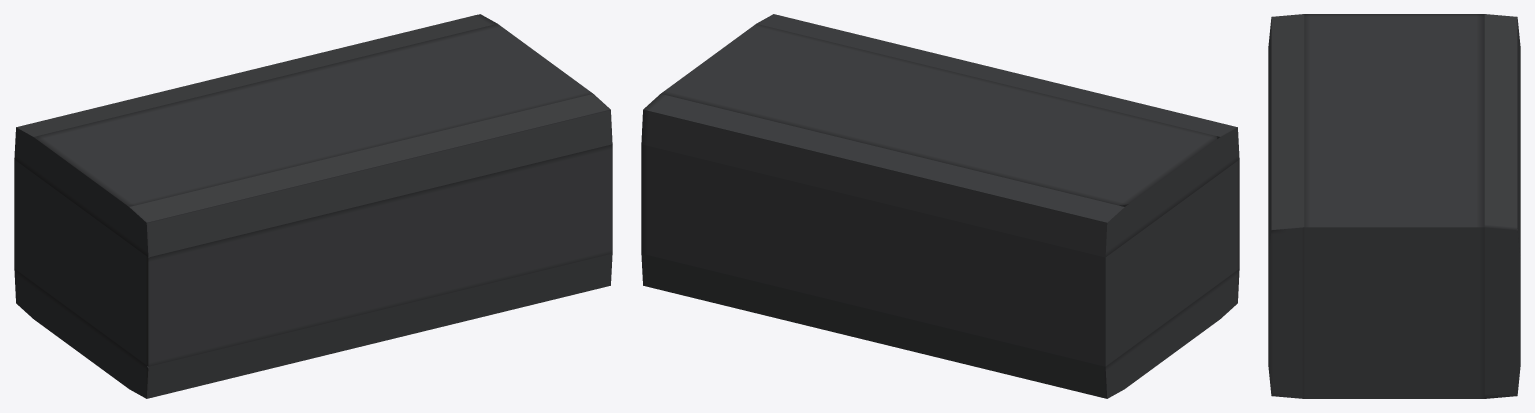
Rendered from bricks.obj.
The picture shows the model from 3 angles, left to right: view 1: azimuth 30°, elevation 25°; view 2: azimuth 150°, elevation 25°; view 3: azimuth 270°, elevation 25°; orthographic projection. The views are drawn at different scales.
Parts seen in each view (by area): view 1: brick; view 2: brick; view 3: brick.
Boxes of the visible parts, box(x1,y1,x2,y2) form: brick: box(14, 14, 612, 398); brick: box(641, 14, 1239, 398); brick: box(1268, 14, 1520, 398).
Size of the model in its own units: 0.25 by 0.0938 by 0.125.
Materials: 1 (1 with a texture image).
